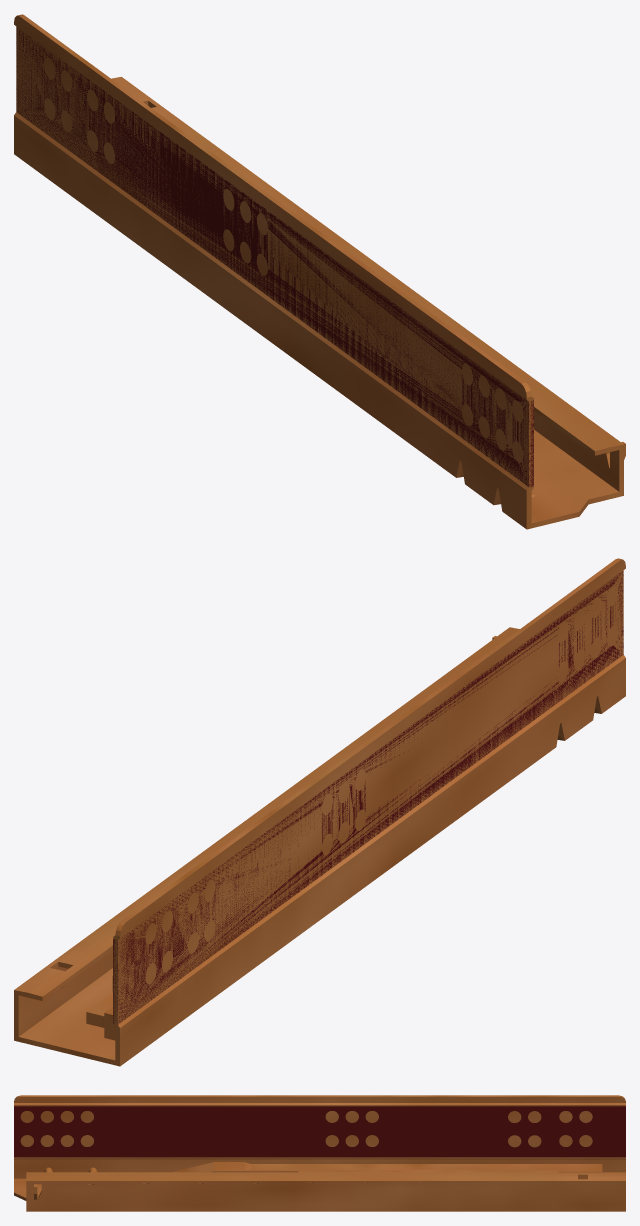
The model's file is napravl._test_400_1784894275935.glb.
3 renders of one model, top to bottom at view 1: azimuth 30°, elevation 25°; view 2: azimuth 150°, elevation 25°; view 3: azimuth 270°, elevation 25°, orthographic. The views are drawn at different scales.
Visible parts, largest first — view 1: Geom3D (×2); view 2: Geom3D (×3); view 3: Geom3D (×3).
Part boxes in pixels (left/top/right/bottom): Geom3D (×2): left=14, top=14, right=625, bottom=529; Geom3D (×3): left=14, top=558, right=625, bottom=1066; Geom3D (×3): left=14, top=1095, right=625, bottom=1211.
Size of the model in its own units: 0.0359 by 0.042 by 0.275.
3 materials, 2 textured.
